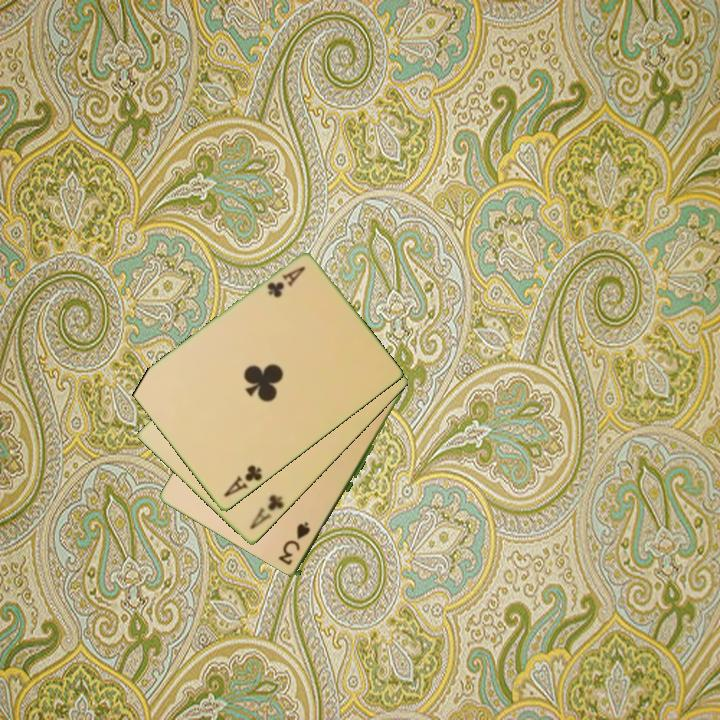3s: (278, 518, 313, 569)
Ac: (246, 491, 287, 533), (220, 462, 265, 500), (263, 263, 308, 301)
